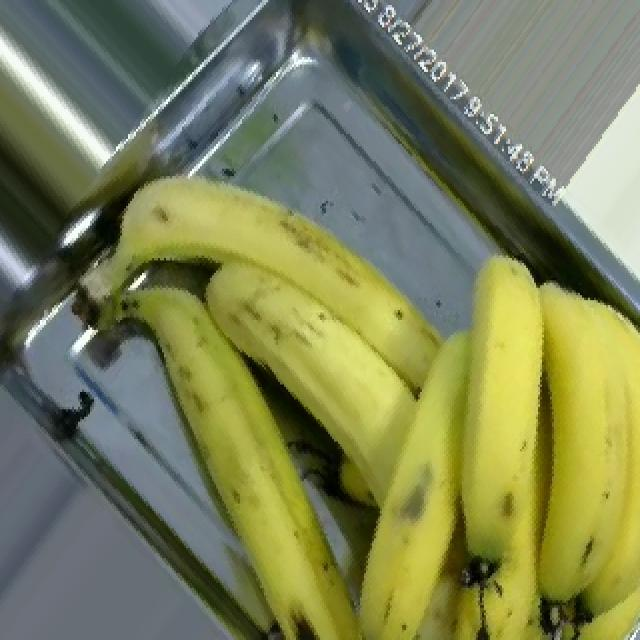banana: (81, 150, 623, 629)
